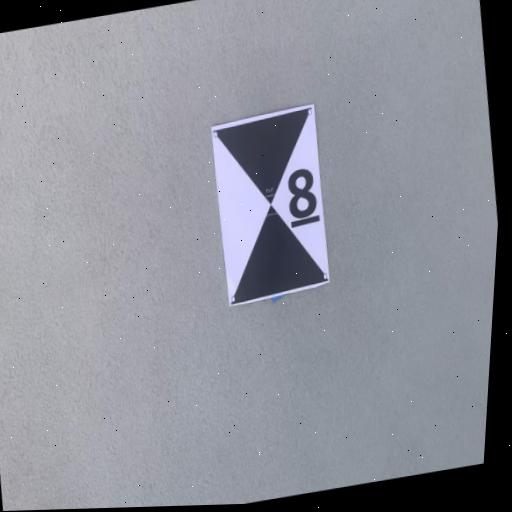target8: (201, 108, 341, 301)
